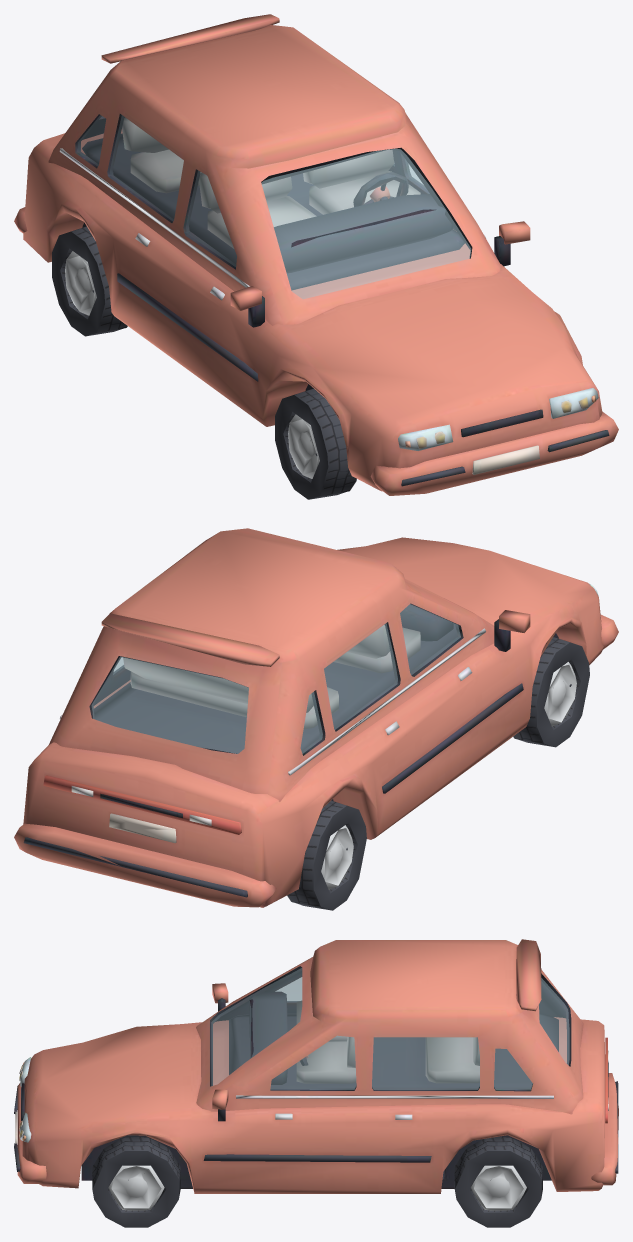
File: g3-1990s-hatchback-lite.glb
3 renders of one model, top to bottom at view 1: azimuth 30°, elevation 25°; view 2: azimuth 150°, elevation 25°; view 3: azimuth 270°, elevation 25°, orthographic. The views are drawn at different scales.
Visible parts, largest first — view 1: 1990s-hatchback_body, 1990s-hatchback_windows, 1990s-hatchback_wheel_fr, 1990s-hatchback_wheel_rr; view 2: 1990s-hatchback_body, 1990s-hatchback_windows, 1990s-hatchback_wheel_rr, 1990s-hatchback_wheel_fr; view 3: 1990s-hatchback_body, 1990s-hatchback_windows, 1990s-hatchback_wheel_fl, 1990s-hatchback_wheel_rl.
Part boxes in pixels (<box>): 1990s-hatchback_body: <box>14,14,618,495</box>; 1990s-hatchback_windows: <box>78,115,470,298</box>; 1990s-hatchback_wheel_fr: <box>275,388,356,499</box>; 1990s-hatchback_wheel_rr: <box>52,226,127,336</box>; 1990s-hatchback_body: <box>14,528,618,907</box>; 1990s-hatchback_windows: <box>91,604,460,753</box>; 1990s-hatchback_wheel_rr: <box>287,800,366,910</box>; 1990s-hatchback_wheel_fr: <box>513,637,589,747</box>; 1990s-hatchback_body: <box>14,939,618,1193</box>; 1990s-hatchback_windows: <box>211,968,569,1089</box>; 1990s-hatchback_wheel_fl: <box>92,1137,180,1227</box>; 1990s-hatchback_wheel_rl: <box>454,1137,542,1227</box>.
Bounding box in the file's own units: 1.84 × 1.51 × 4.04.
6 materials, 2 textured.
